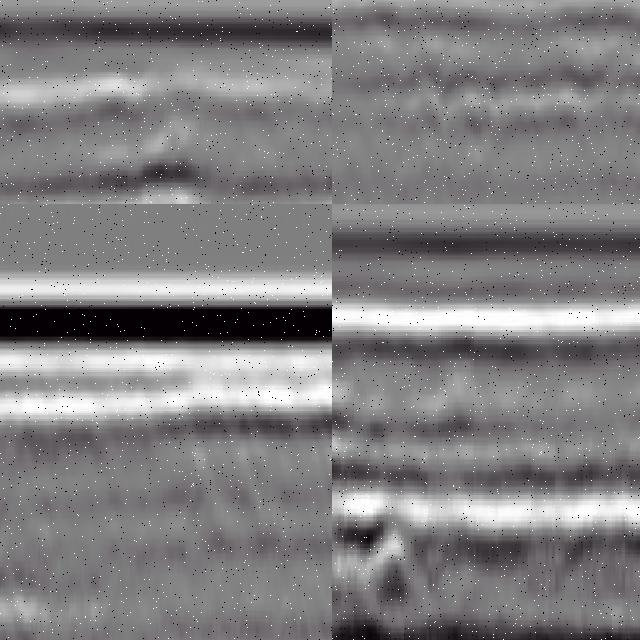crack: (142, 102, 191, 205)
loose: (386, 7, 640, 135), (333, 382, 436, 562), (1, 533, 58, 640)
